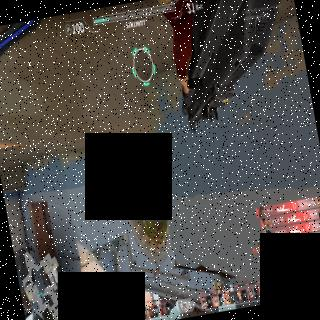ENEMY-BODY: (146, 144, 154, 167)
ENEMY-HEAD: (150, 162, 152, 166)
